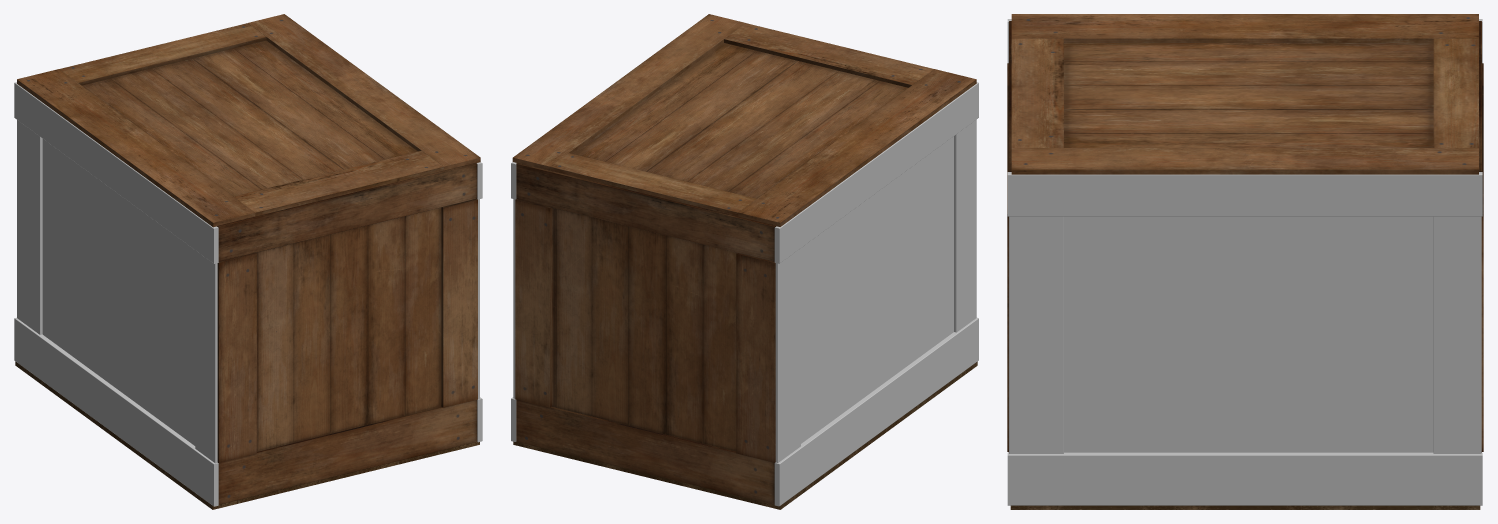
Rendered from cubodilegno.fbx.
3 views of the same model, side by side, from view 1: azimuth 30°, elevation 25°; view 2: azimuth 150°, elevation 25°; view 3: azimuth 270°, elevation 25° (orthographic). The views are drawn at different scales.
Visible parts, largest first — view 1: lr_box2_lp_lr_box_0, lr_box1_lp_lr_box_0, fb_box2_lp_fb_box_0, fb_box1_lp_fb_box_0, t_box2_lp_t_box_0, t_box1_lp_t_box_0, b_box_lp_b_box_0; view 2: lr_box2_lp_lr_box_0, lr_box1_lp_lr_box_0, fb_box2_lp_fb_box_0, fb_box1_lp_fb_box_0, t_box2_lp_t_box_0, t_box1_lp_t_box_0, b_box_lp_b_box_0; view 3: fb_box2_lp_fb_box_0, fb_box1_lp_fb_box_0, t_box2_lp_t_box_0, t_box1_lp_t_box_0, lr_box1_lp_lr_box_0, b_box_lp_b_box_0.
Boxes of the visible parts, x1,y1,x2,y2 form: lr_box2_lp_lr_box_0: (256, 207, 441, 451); lr_box1_lp_lr_box_0: (217, 163, 477, 504); fb_box2_lp_fb_box_0: (42, 139, 195, 445); fb_box1_lp_fb_box_0: (14, 82, 482, 506); t_box2_lp_t_box_0: (82, 40, 417, 196); t_box1_lp_t_box_0: (17, 14, 480, 227); b_box_lp_b_box_0: (15, 361, 479, 509); lr_box2_lp_lr_box_0: (552, 207, 736, 451); lr_box1_lp_lr_box_0: (515, 162, 775, 504); fb_box2_lp_fb_box_0: (801, 136, 953, 443); fb_box1_lp_fb_box_0: (511, 82, 978, 506); t_box2_lp_t_box_0: (573, 43, 907, 198); t_box1_lp_t_box_0: (512, 14, 976, 226); b_box_lp_b_box_0: (513, 361, 977, 509); fb_box2_lp_fb_box_0: (1064, 216, 1433, 452); fb_box1_lp_fb_box_0: (1007, 19, 1482, 505); t_box2_lp_t_box_0: (1064, 43, 1433, 147); t_box1_lp_t_box_0: (1011, 14, 1478, 174); lr_box1_lp_lr_box_0: (1007, 21, 1483, 452); b_box_lp_b_box_0: (1010, 505, 1480, 509).
Bounding box in the file's own units: 91.25 × 93 × 118.
